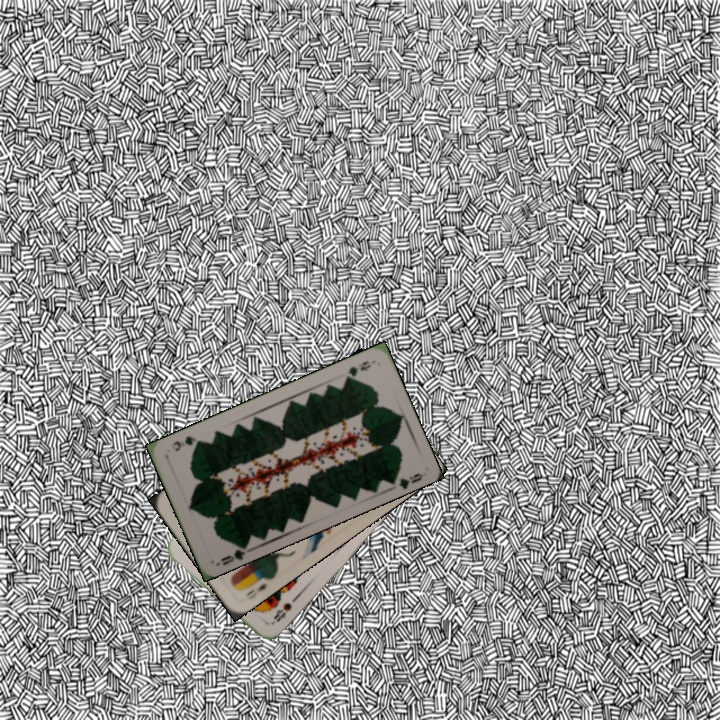EO: (236, 573, 273, 599)
G9: (216, 541, 250, 568), (341, 357, 374, 383)
S8: (267, 598, 294, 628)
